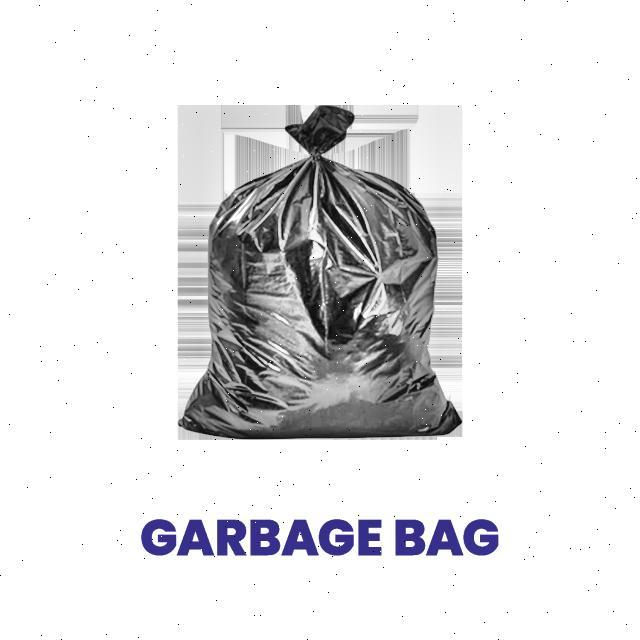Trashbag: (172, 96, 464, 449)
